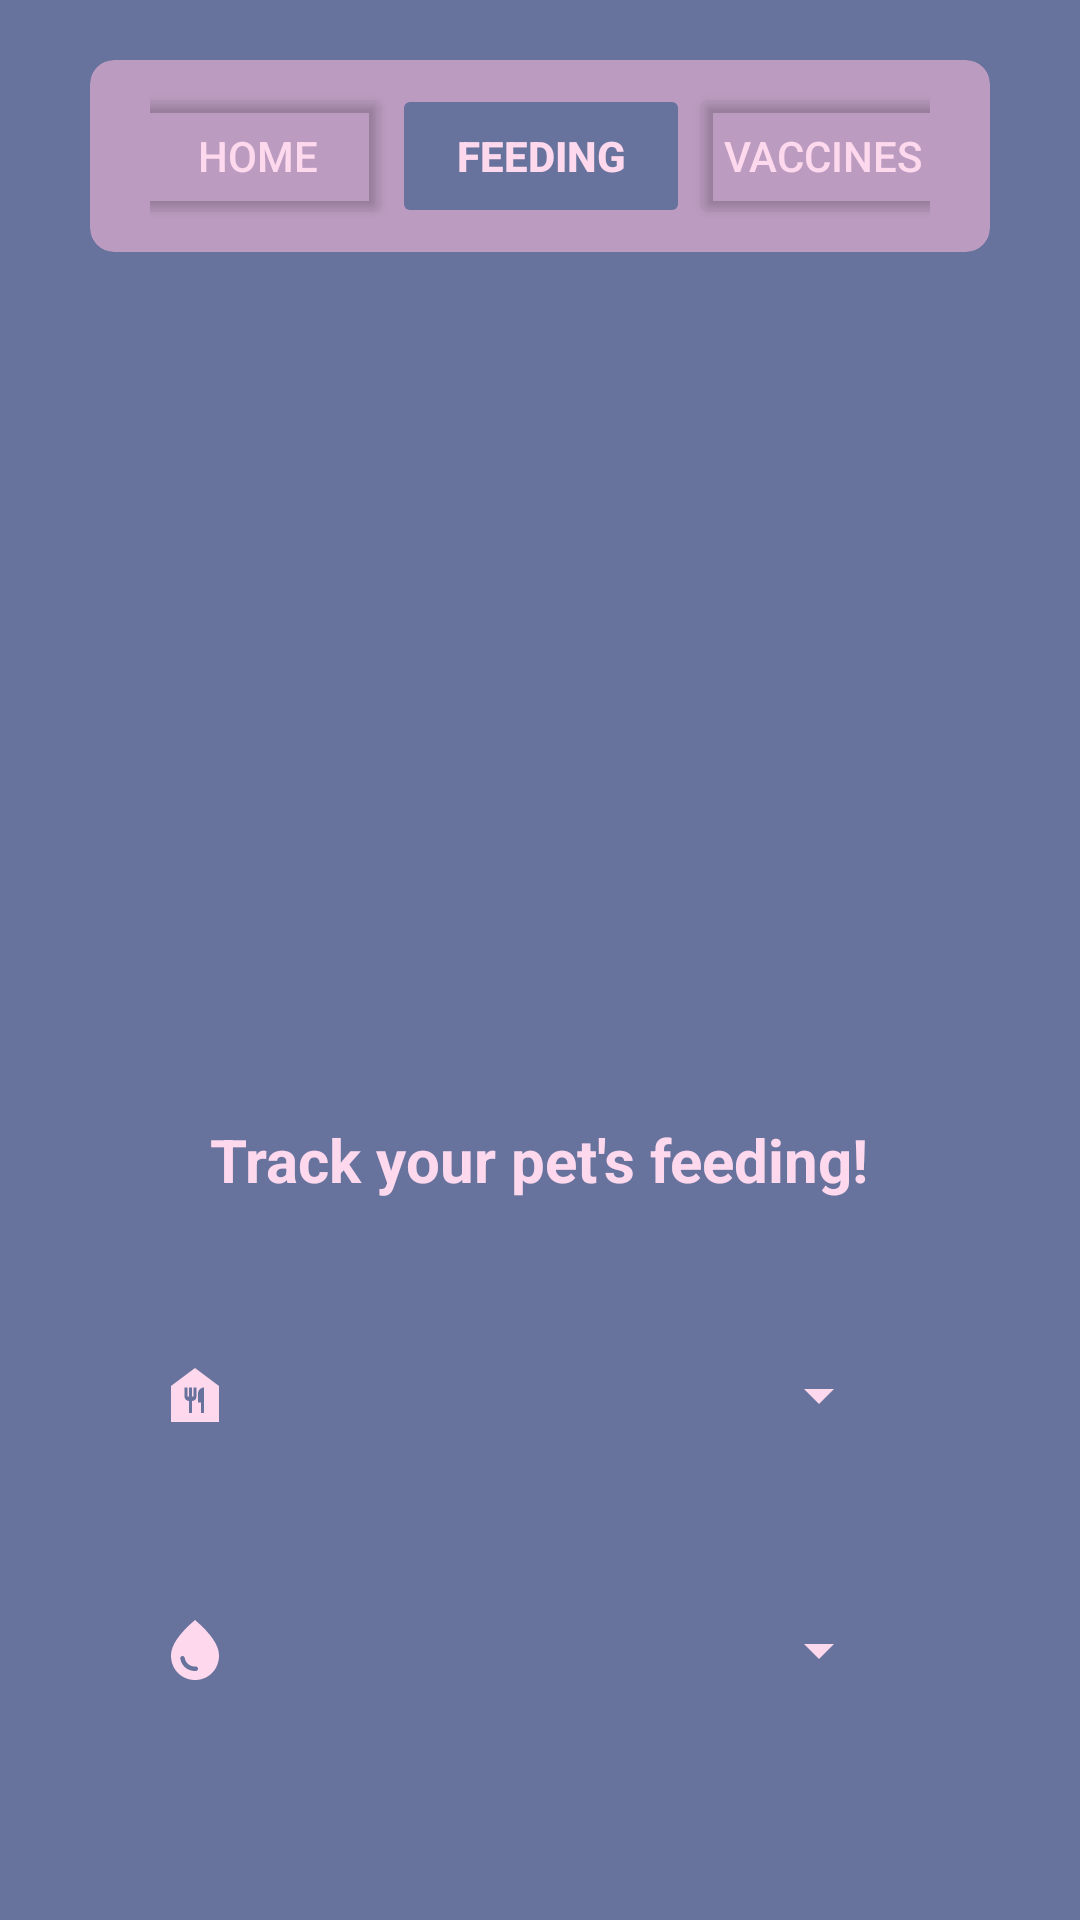

Locate icon controls on the screen. Image size 1080*1920, boxes as (x1, y1, x2, y2).
food bank: (171, 1368, 219, 1422)
water drop: (171, 1620, 219, 1680)
